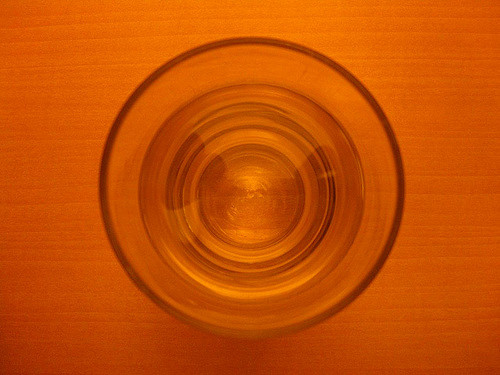glass of water: (107, 43, 402, 332)
